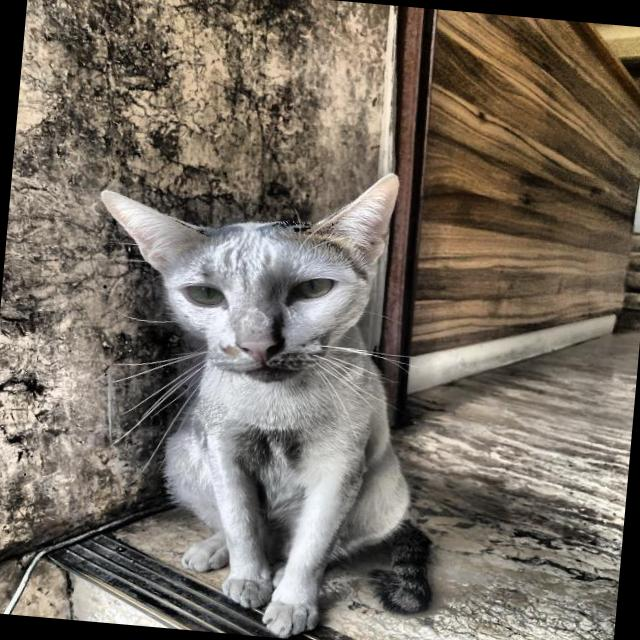Healthy skin: (80, 192, 408, 421)
